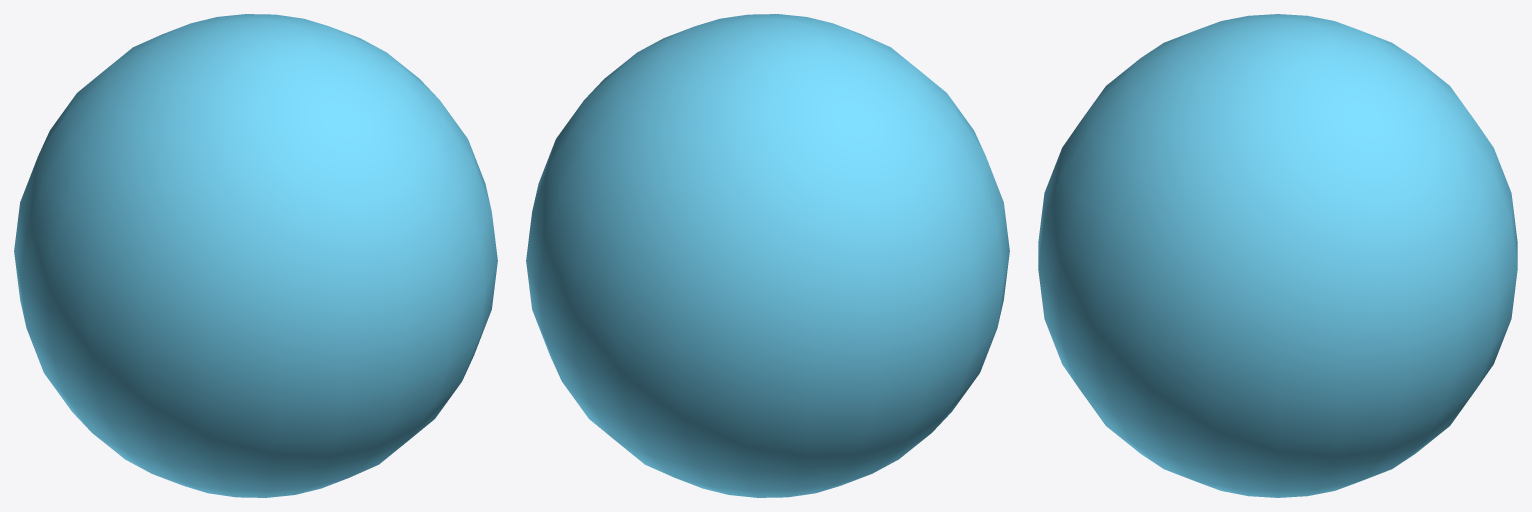
File: StruggleOrbBall.obj
3 renders of one model, left to right at view 1: azimuth 30°, elevation 25°; view 2: azimuth 150°, elevation 25°; view 3: azimuth 270°, elevation 25°, orthographic.
Parts seen in each view (by area): view 1: Orb; view 2: Orb; view 3: Orb.
Boxes of the visible parts, left/top/right/bottom form: Orb: left=14, top=14, right=497, bottom=497; Orb: left=526, top=14, right=1009, bottom=497; Orb: left=1038, top=14, right=1517, bottom=497.
Size of the model in its own units: 1.6 by 1.6 by 1.58.
